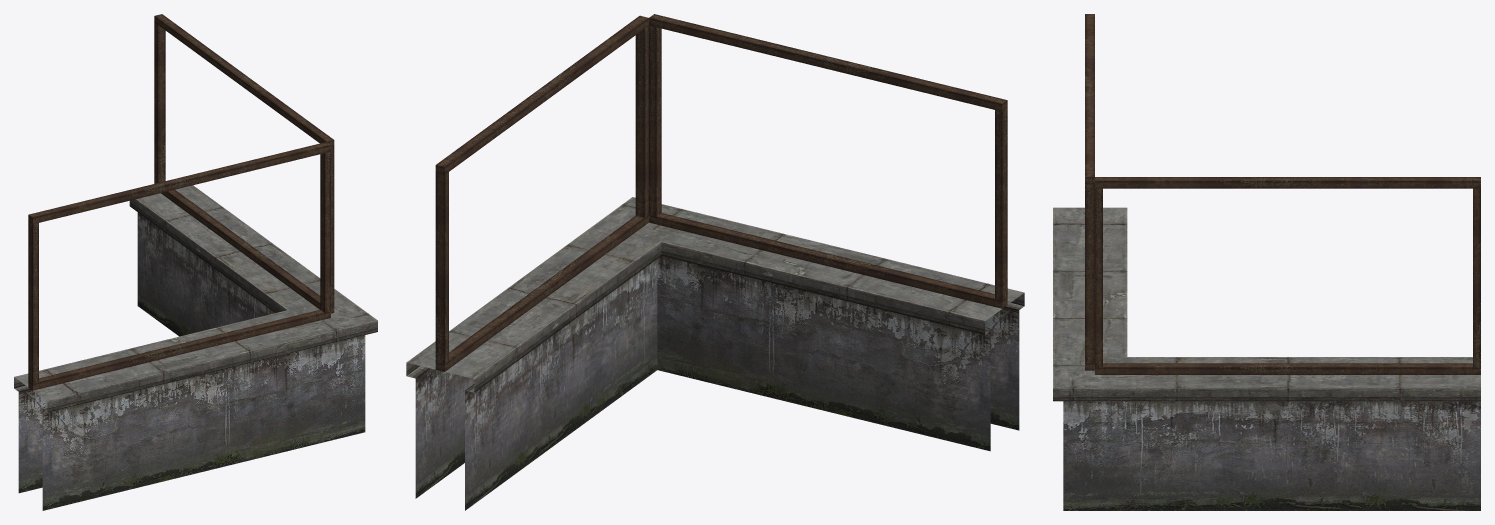
File: Concrete_fence_v2_L.003.glb
3 renders of one model, left to right at view 1: azimuth 30°, elevation 25°; view 2: azimuth 150°, elevation 25°; view 3: azimuth 270°, elevation 25°, orthographic. The views are drawn at different scales.
Visible parts, largest first — view 1: Concrete_fence_v2_L.003; view 2: Concrete_fence_v2_L.003; view 3: Concrete_fence_v2_L.003.
Part boxes in pixels (<box>): Concrete_fence_v2_L.003: <box>14,14,377,510</box>; Concrete_fence_v2_L.003: <box>406,14,1024,510</box>; Concrete_fence_v2_L.003: <box>1053,14,1480,510</box>.
Bounding box in the file's own units: 3.11 × 2.57 × 3.11.
1 material, 1 textured.
